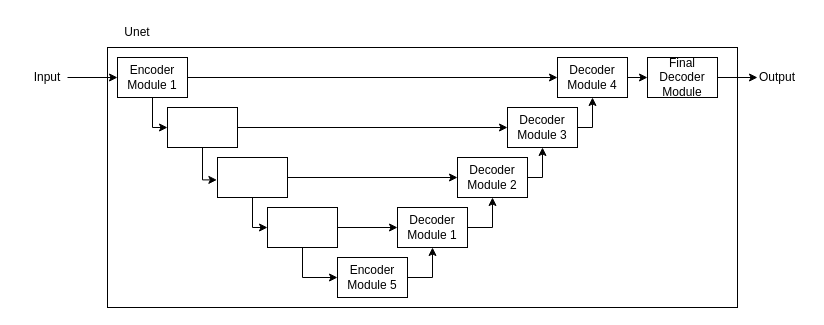
Some shapes in this 824 by 325 pixel diagram are drawn without their labels. The shapes that lost their labels are listed below. From the top down, each one's centre as x and y in pixels, then its label:
the point at 202,127: Encoder Module 2
the point at 252,177: Encoder Module 3
the point at 302,227: Encoder Module 4
